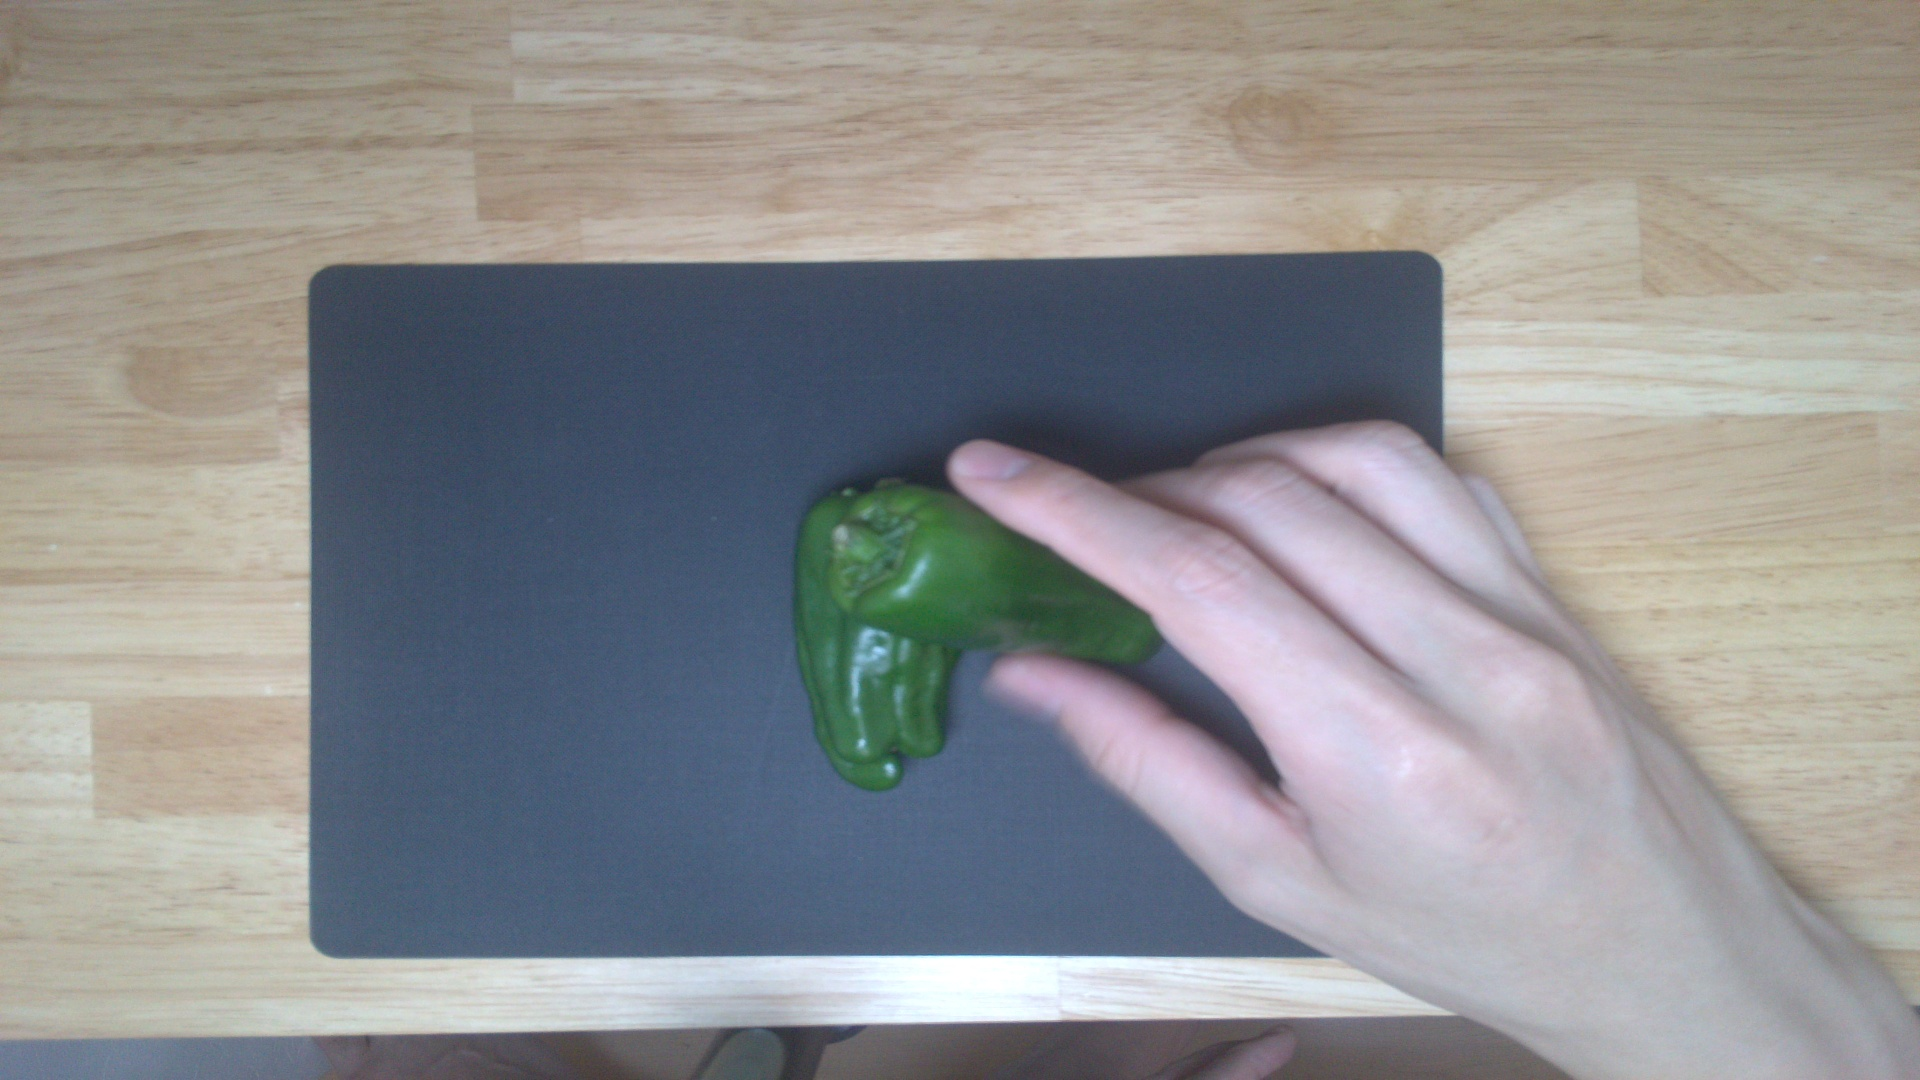Piman: (828, 465, 1167, 678), (795, 456, 952, 793)
